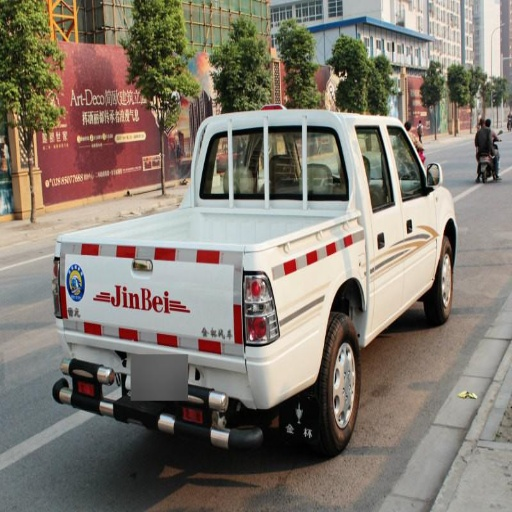back_bumper: (134, 320, 323, 410)
back_right_door: (355, 125, 400, 305)
trunk: (78, 217, 358, 387)
